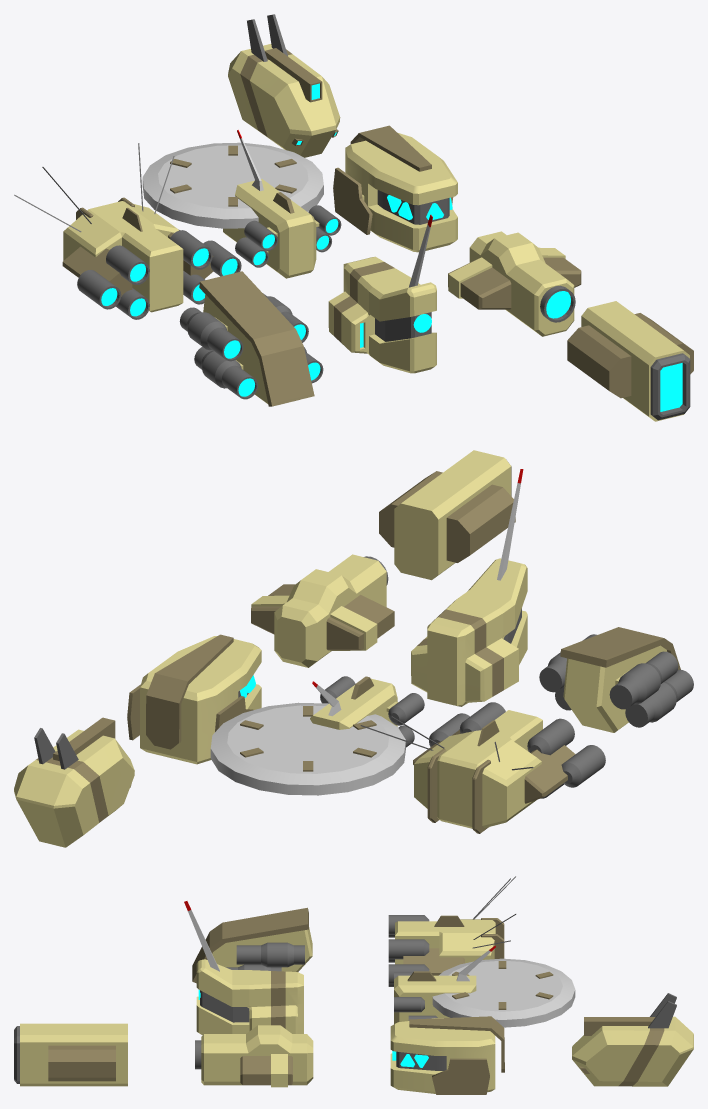
File: Mech Heads.fbx
3 renders of one model, top to bottom at view 1: azimuth 30°, elevation 25°; view 2: azimuth 150°, elevation 25°; view 3: azimuth 270°, elevation 25°, orthographic. The views are drawn at different scales.
Parts seen in each view (by area): view 1: pCylinder9, pCube10, pCube3, pCube4, pCube25, pasted__pasted__pasted__pCube29, pCube23, pCube7, pCube12, pasted__pasted__pasted__pCube30, pCube9, pCylinder23 (+13 smaller); view 2: pCylinder9, pCube3, pCube23, pCube25, pCube10, pasted__pasted__pasted__pCube29, pCube7, pCube4, pasted__pasted__pasted__pCube30, pCube11, pCube9, pCube12 (+13 smaller); view 3: pCube3, pCube10, pCylinder9, pCube25, pasted__pasted__pasted__pCube29, pCube7, pCube4, pCube23, pasted__pasted__pasted__pCube30, pCube12, pCube8, pCylinder24 (+9 smaller).
Boxes of the visible parts, left/top/right/bottom form: pCylinder9: left=142, top=142, right=323, bottom=228; pCube10: left=333, top=133, right=457, bottom=252; pCube3: left=328, top=256, right=436, bottom=373; pCube4: left=199, top=271, right=314, bottom=406; pCube25: left=228, top=44, right=340, bottom=157; pasted__pasted__pasted__pCube29: left=581, top=301, right=690, bottom=421; pCube23: left=63, top=201, right=183, bottom=312; pCube7: left=469, top=231, right=574, bottom=336; pCube12: left=223, top=179, right=316, bottom=278; pasted__pasted__pasted__pCube30: left=567, top=313, right=693, bottom=398; pCube9: left=448, top=257, right=511, bottom=309; pCylinder23: left=179, top=307, right=243, bottom=361; pCylinder9: left=210, top=702, right=405, bottom=795; pCube3: left=411, top=558, right=527, bottom=706; pCube23: left=414, top=710, right=542, bottom=828; pCube25: left=14, top=729, right=134, bottom=847; pCube10: left=127, top=636, right=261, bottom=764; pasted__pasted__pasted__pCube29: left=394, top=450, right=511, bottom=580; pCube7: left=274, top=554, right=386, bottom=667; pCube4: left=560, top=627, right=680, bottom=732; pasted__pasted__pasted__pCube30: left=379, top=471, right=515, bottom=562; pCube11: left=146, top=634, right=233, bottom=749; pCube9: left=326, top=594, right=394, bottom=650; pCube12: left=310, top=678, right=397, bottom=729; pCube3: left=196, top=959, right=303, bottom=1035; pCube10: left=390, top=1018, right=495, bottom=1094; pCylinder9: left=432, top=958, right=575, bottom=1027; pCube25: left=572, top=1016, right=693, bottom=1086; pasted__pasted__pasted__pCube29: left=14, top=1023, right=127, bottom=1086; pCube7: left=201, top=1025, right=313, bottom=1085; pCube4: left=192, top=907, right=312, bottom=983; pCube23: left=395, top=919, right=495, bottom=964; pasted__pasted__pasted__pCube30: left=48, top=1045, right=115, bottom=1081; pCube12: left=394, top=975, right=476, bottom=1024; pCube8: left=240, top=1054, right=292, bottom=1087; pCylinder24: left=236, top=942, right=304, bottom=967.
Size of the model in its own units: 11.99 by 4.76 by 22.01.
